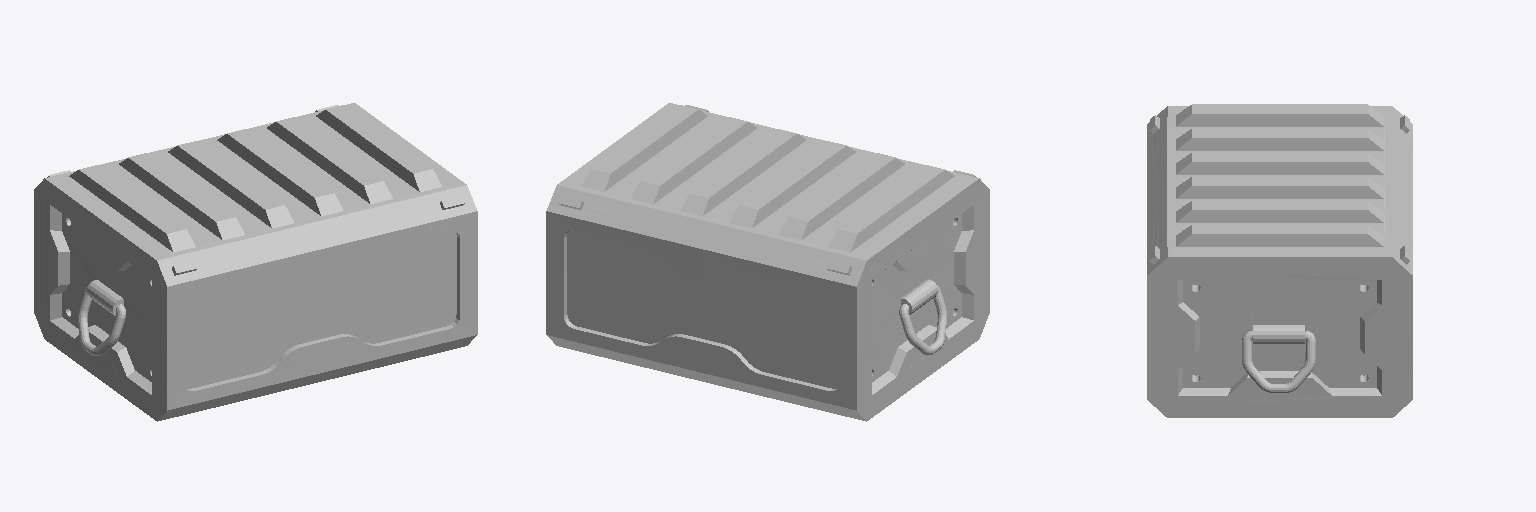
The model's file is crate.obj.
3 views of the same model, side by side, from view 1: azimuth 30°, elevation 25°; view 2: azimuth 150°, elevation 25°; view 3: azimuth 270°, elevation 25° (orthographic).
Parts seen in each view (by area): view 1: Scifi_Crate; view 2: Scifi_Crate; view 3: Scifi_Crate.
Part boxes in pixels (bbox=[...]): Scifi_Crate: bbox=[34, 103, 477, 421]; Scifi_Crate: bbox=[546, 103, 989, 421]; Scifi_Crate: bbox=[1147, 104, 1412, 417].
Bounding box in the file's own units: 354 × 173 × 241.